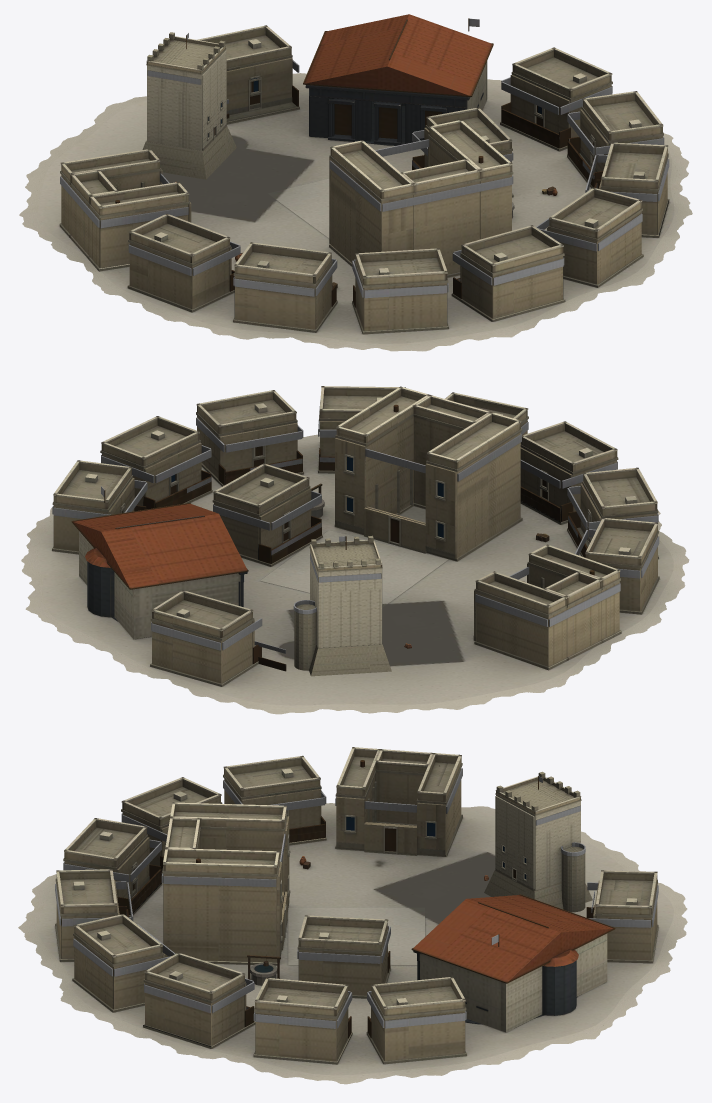
File: kingdoms-town-medium-b-israelite-b1a6518e.glb
3 views of the same model, one above another, from view 1: azimuth 30°, elevation 25°; view 2: azimuth 150°, elevation 25°; view 3: azimuth 270°, elevation 25° (orthographic).
Parts seen in each view (by area): view 1: LOD0; view 2: LOD0; view 3: LOD0.
Part boxes in pixels (<box>): LOD0: <box>19,14,692,351</box>; LOD0: <box>21,386,689,714</box>; LOD0: <box>18,747,687,1084</box>.
Size of what is drawn, in the model's own units: 5.97 by 1.2 by 6.01.
Materials: 3 (3 with a texture image).
